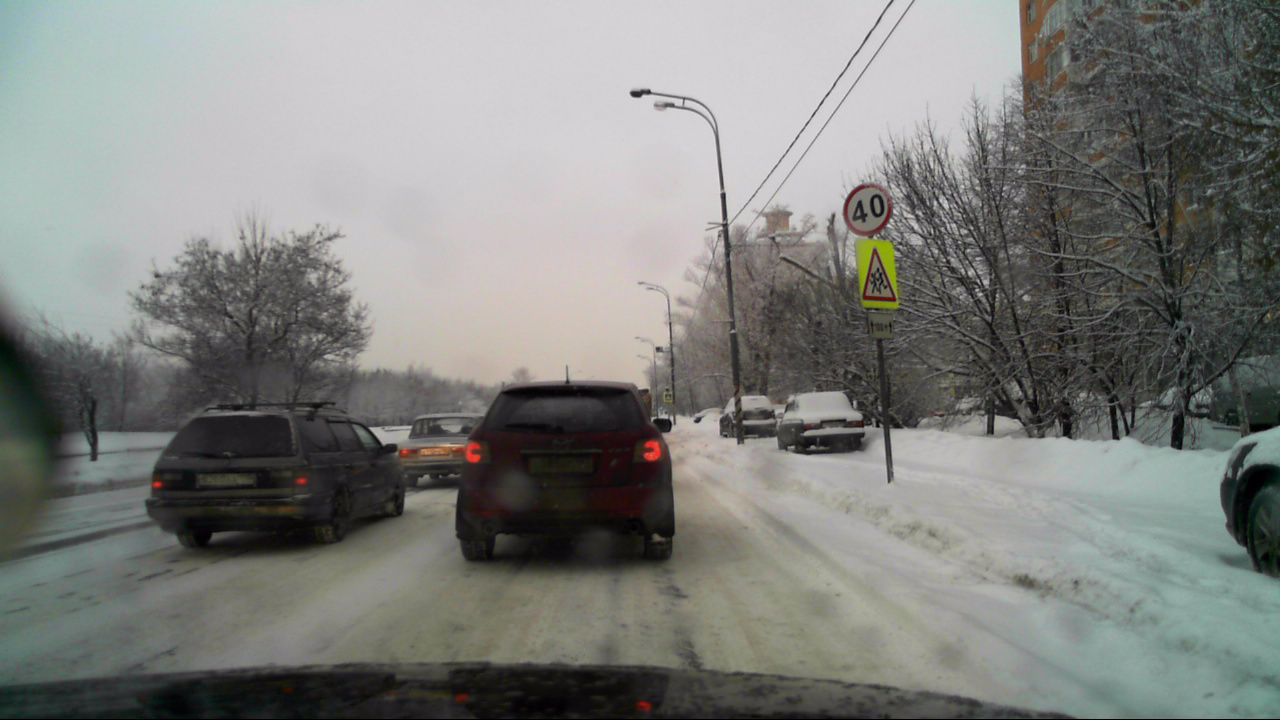speed_warning_40: (840, 183, 888, 234)
